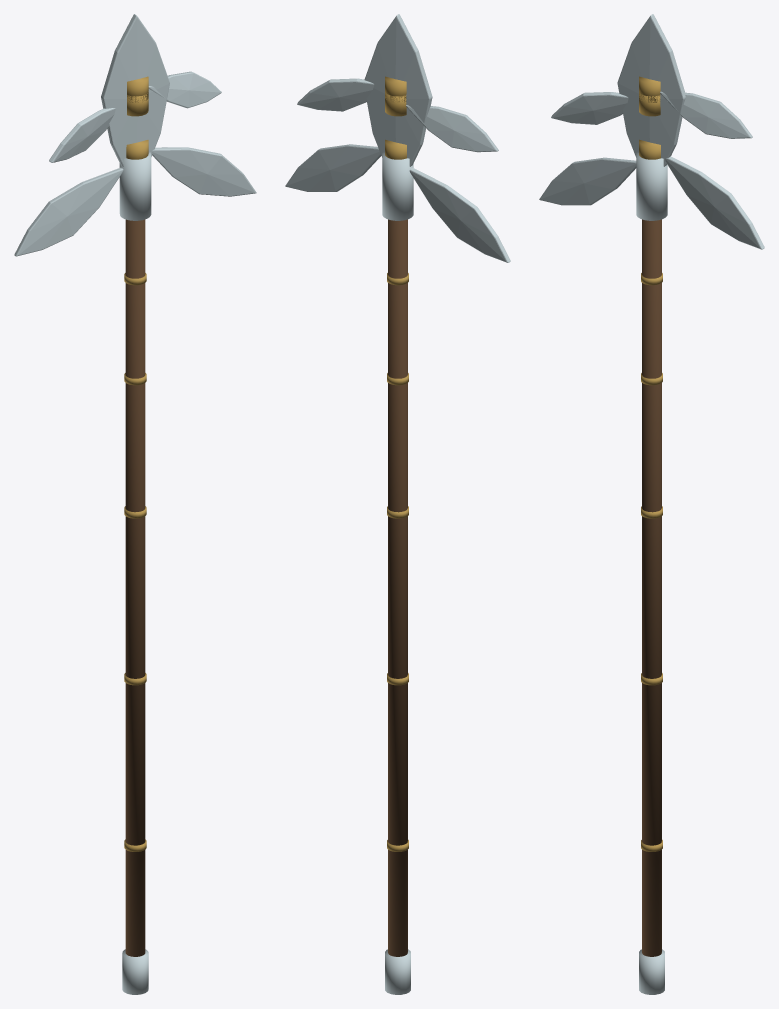
The model's file is elven-branched-spear-crown.fbx.
The picture shows the model from 3 angles, left to right: view 1: azimuth 30°, elevation 25°; view 2: azimuth 150°, elevation 25°; view 3: azimuth 330°, elevation 25°; orthographic projection.
Parts seen in each view (by area): view 1: ElvenBranchedSpearCrownShaft, ElvenBranchedSpearCrownCentralLeaf, ElvenBranchedSpearCrownBranchLeftLow, ElvenBranchedSpearCrownBranchRightLow, ElvenBranchedSpearCrownHeadCollar, ElvenBranchedSpearCrownBranchLeftHigh, ElvenBranchedSpearCrownBranchRightHigh, ElvenBranchedSpearCrownButtCap; view 2: ElvenBranchedSpearCrownShaft, ElvenBranchedSpearCrownCentralLeaf, ElvenBranchedSpearCrownBranchLeftLow, ElvenBranchedSpearCrownBranchRightLow, ElvenBranchedSpearCrownBranchLeftHigh, ElvenBranchedSpearCrownHeadCollar, ElvenBranchedSpearCrownBranchRightHigh, ElvenBranchedSpearCrownButtCap; view 3: ElvenBranchedSpearCrownShaft, ElvenBranchedSpearCrownCentralLeaf, ElvenBranchedSpearCrownBranchRightLow, ElvenBranchedSpearCrownBranchLeftLow, ElvenBranchedSpearCrownBranchRightHigh, ElvenBranchedSpearCrownHeadCollar, ElvenBranchedSpearCrownBranchLeftHigh, ElvenBranchedSpearCrownButtCap.
Boxes of the visible parts, <box> form: ElvenBranchedSpearCrownShaft: <box>125,219,145,956</box>; ElvenBranchedSpearCrownCentralLeaf: <box>101,14,169,166</box>; ElvenBranchedSpearCrownBranchLeftLow: <box>14,167,123,256</box>; ElvenBranchedSpearCrownBranchRightLow: <box>151,147,256,196</box>; ElvenBranchedSpearCrownHeadCollar: <box>119,152,151,220</box>; ElvenBranchedSpearCrownBranchLeftHigh: <box>49,108,115,162</box>; ElvenBranchedSpearCrownBranchRightHigh: <box>148,71,221,108</box>; ElvenBranchedSpearCrownButtCap: <box>122,949,148,994</box>; ElvenBranchedSpearCrownShaft: <box>388,219,407,956</box>; ElvenBranchedSpearCrownCentralLeaf: <box>364,14,432,166</box>; ElvenBranchedSpearCrownBranchLeftLow: <box>409,167,510,262</box>; ElvenBranchedSpearCrownBranchRightLow: <box>285,144,381,191</box>; ElvenBranchedSpearCrownBranchLeftHigh: <box>406,105,498,152</box>; ElvenBranchedSpearCrownHeadCollar: <box>382,152,413,220</box>; ElvenBranchedSpearCrownBranchRightHigh: <box>297,78,374,111</box>; ElvenBranchedSpearCrownButtCap: <box>385,949,410,994</box>; ElvenBranchedSpearCrownShaft: <box>642,219,661,956</box>; ElvenBranchedSpearCrownCentralLeaf: <box>617,14,685,166</box>; ElvenBranchedSpearCrownBranchRightLow: <box>665,156,764,249</box>; ElvenBranchedSpearCrownBranchLeftLow: <box>539,157,636,205</box>; ElvenBranchedSpearCrownBranchRightHigh: <box>660,91,752,138</box>; ElvenBranchedSpearCrownHeadCollar: <box>636,152,667,220</box>; ElvenBranchedSpearCrownBranchLeftHigh: <box>551,92,628,124</box>; ElvenBranchedSpearCrownButtCap: <box>639,949,664,994</box>.
Bounding box in the file's own units: 0.7299 × 2.92 × 0.0957.
